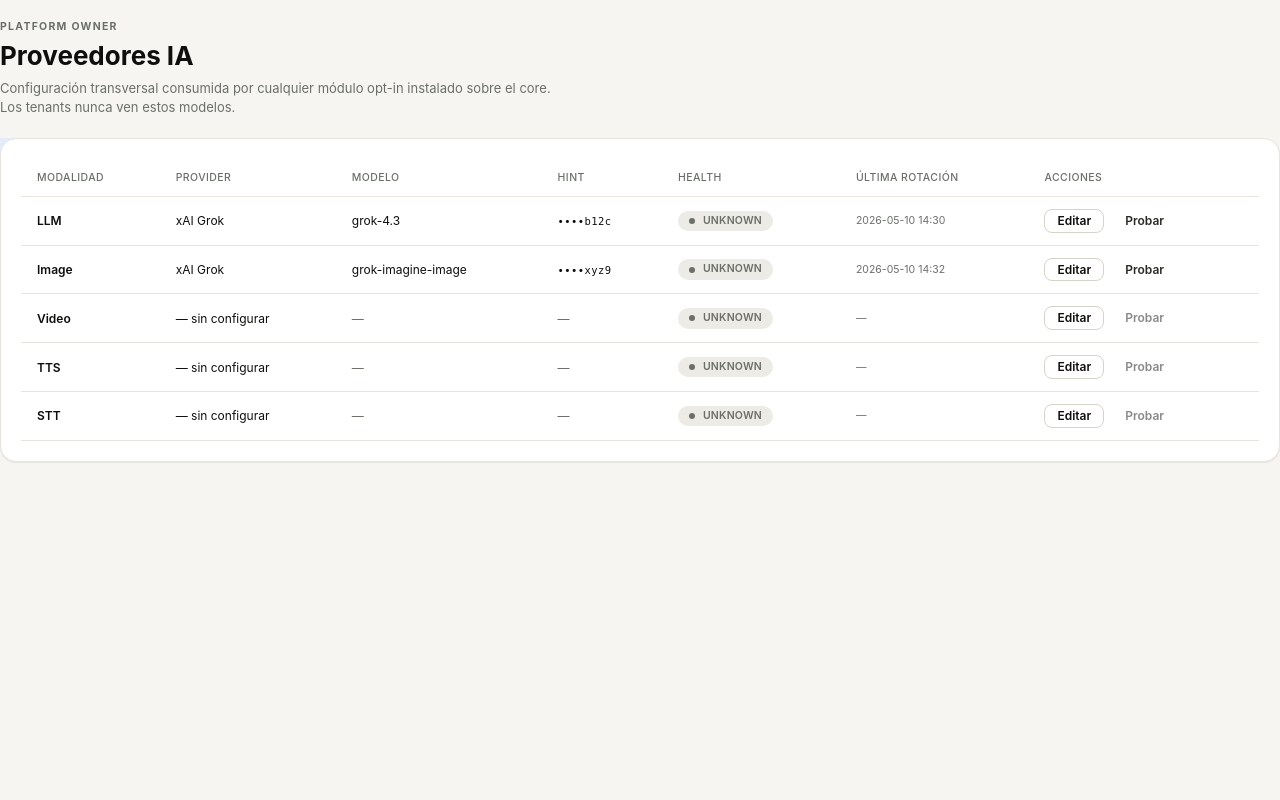
Test case: <AIProviders/> — proveedores IA transversales (platform_owner only) › "Probar" muestra el error_class cuando ok=false (ej. rate-limited)
Click the button "Probar" in the row of "LLM".
click(1145, 221)  # box x1=1112 y1=209 x2=1177 y2=233
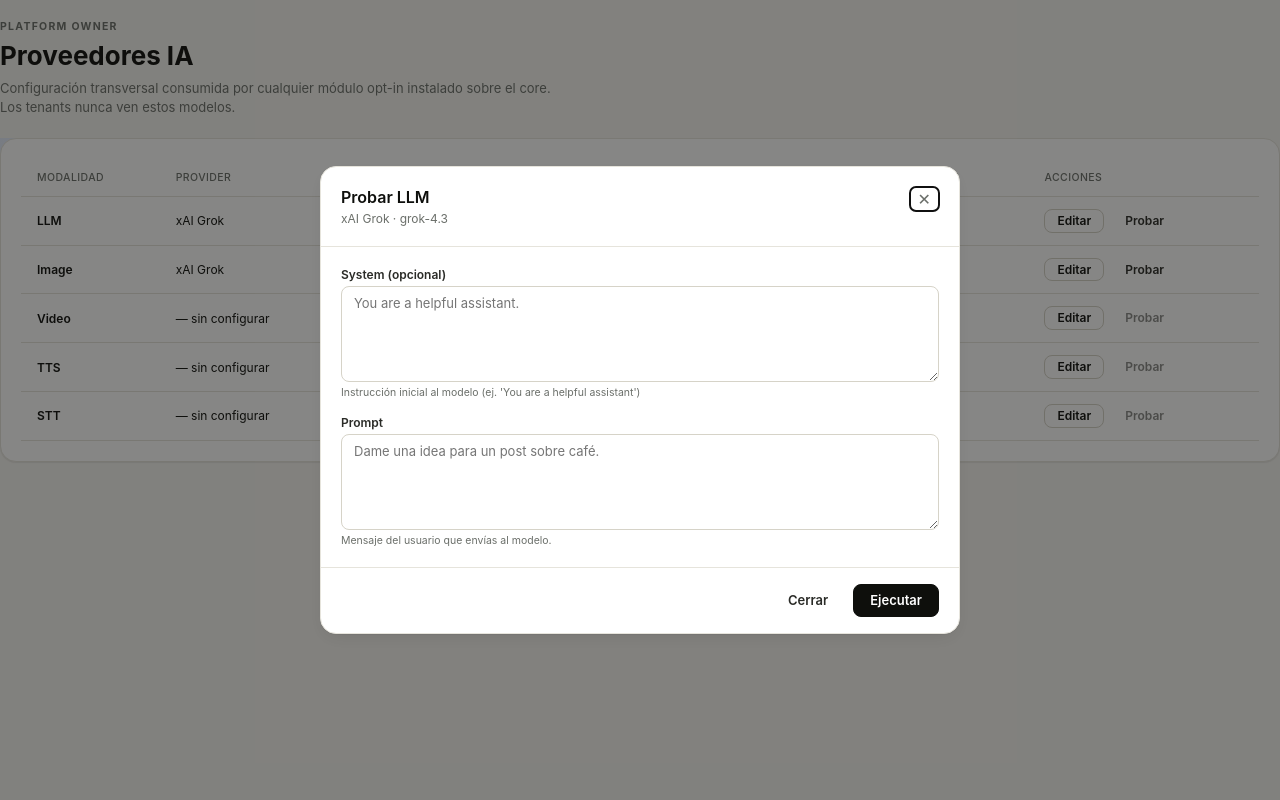
Type "Hola" into the text box with placeholder "Dame una idea para un post sobre café.".
click(640, 482); type("Hola")  # box x1=341 y1=434 x2=939 y2=530
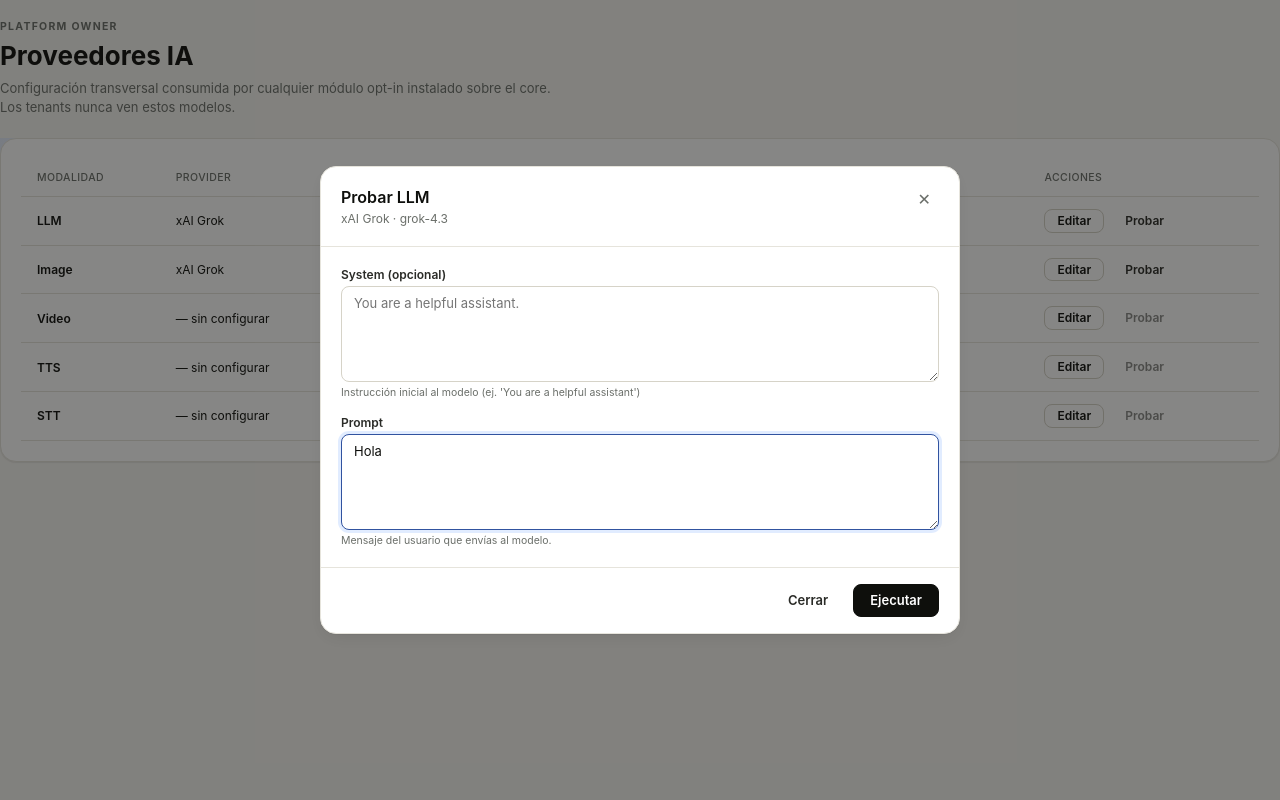
Click the button "Ejecutar".
click(896, 600)  # box x1=853 y1=584 x2=939 y2=617
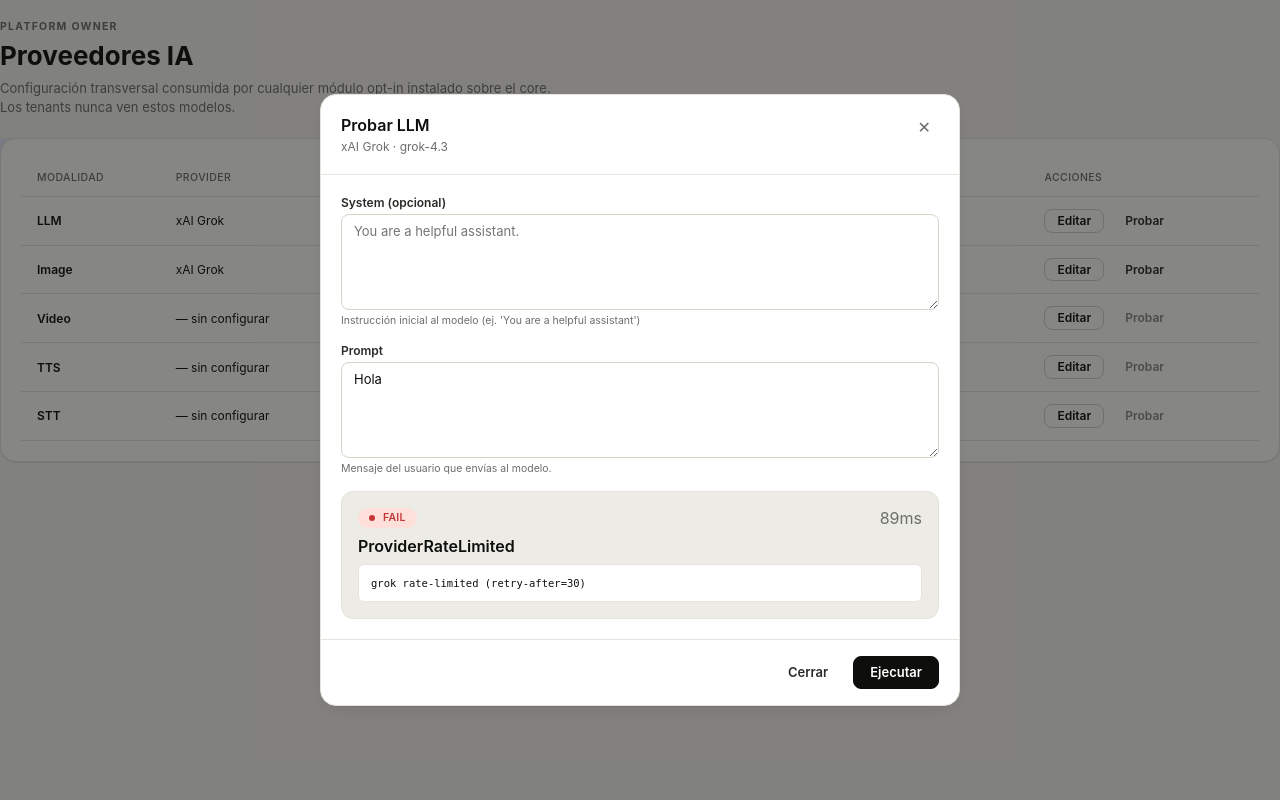
Expected: the text "ProviderRateLimited" is shown, x1=358 y1=536 x2=515 y2=556
Expected: the text "grok rate-limited (retry-after=30)" is shown, x1=358 y1=564 x2=922 y2=602
